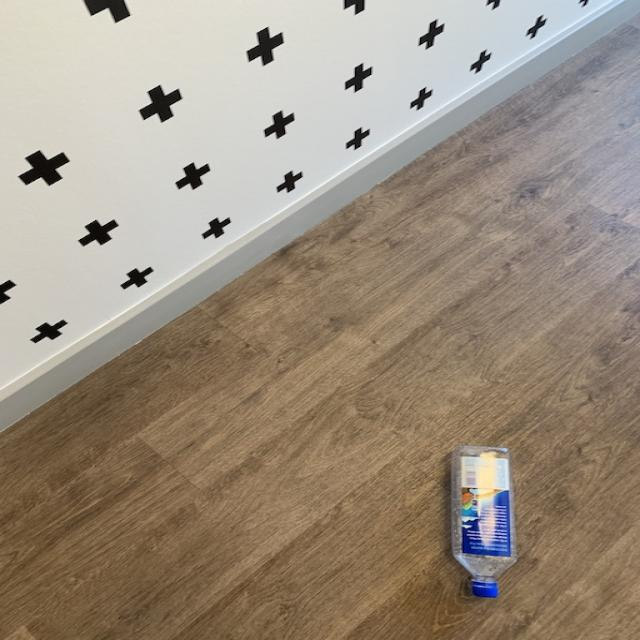Waste: (452, 447, 519, 598)
